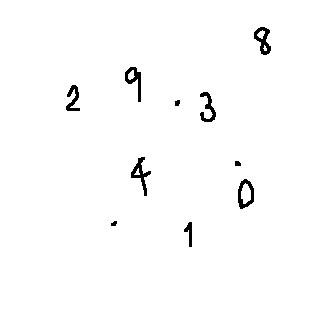.: (59, 81, 88, 119), (108, 220, 124, 237), (174, 93, 184, 111), (232, 157, 246, 168)
0: (232, 175, 260, 214)
1: (180, 213, 201, 252)
3: (196, 88, 220, 124)
4: (126, 153, 158, 200)
8: (247, 19, 279, 67)
9: (119, 63, 147, 104)
